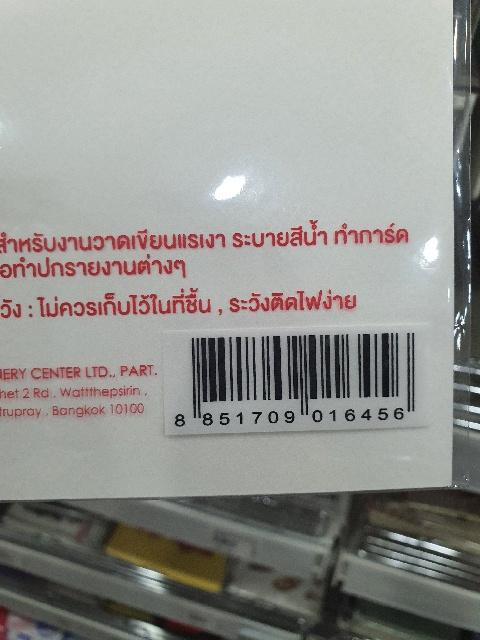Barcode: (168, 326, 425, 435)
